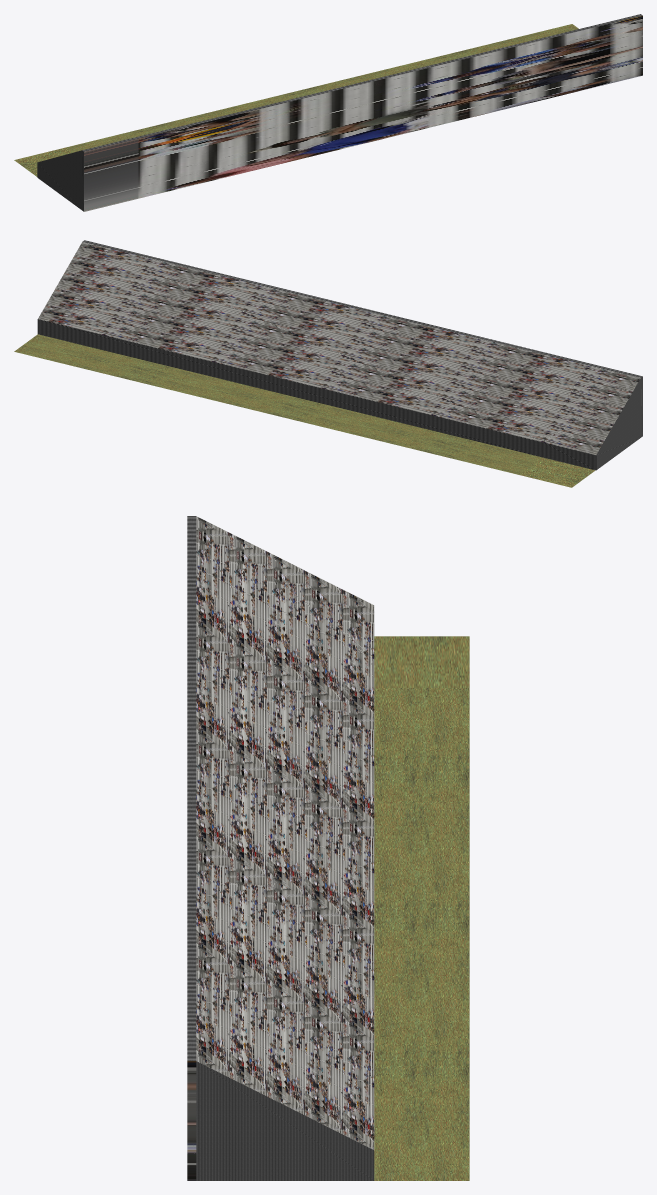
File: crusty_stands.glb
The picture shows the model from 3 angles, top to bottom: view 1: azimuth 30°, elevation 25°; view 2: azimuth 150°, elevation 25°; view 3: azimuth 270°, elevation 25°; orthographic projection. The views are drawn at different scales.
Visible parts, largest first — view 1: Cube.042; view 2: Cube.042; view 3: Cube.042.
Part boxes in pixels (box(x1,y1,x2,y2)): Cube.042: box(14, 14, 642, 211); Cube.042: box(14, 240, 642, 487); Cube.042: box(187, 516, 469, 1180).
Size of the model in its own units: 441 by 45.24 by 96.63.
3 materials, 3 textured.
